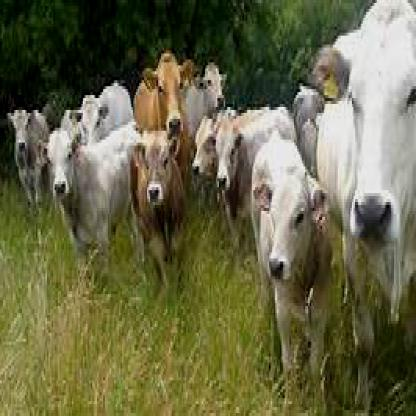cow: (314, 0, 414, 250), (250, 175, 332, 291), (141, 53, 194, 136), (37, 131, 83, 202), (136, 134, 181, 205), (214, 125, 246, 193), (197, 59, 230, 113), (6, 107, 33, 163), (192, 119, 216, 181)
